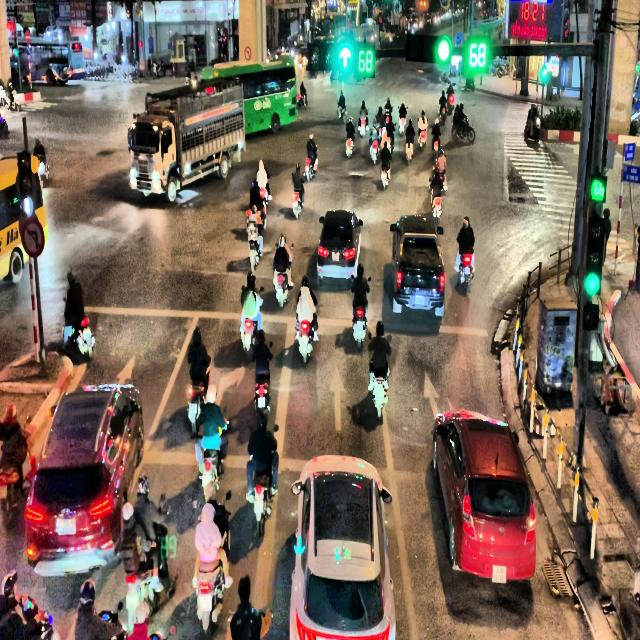lisence_plate: (54, 515, 76, 536), (491, 563, 507, 584), (330, 250, 341, 263), (414, 296, 426, 307)
